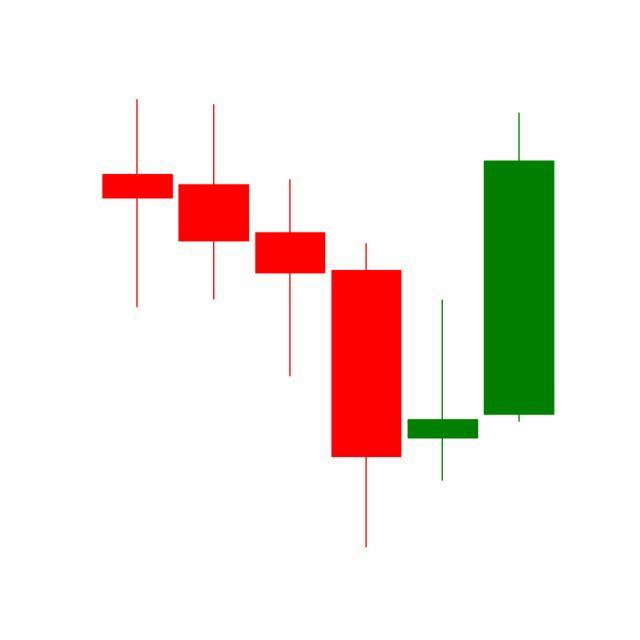Three Inside Up-Down: (326, 108, 555, 549)
